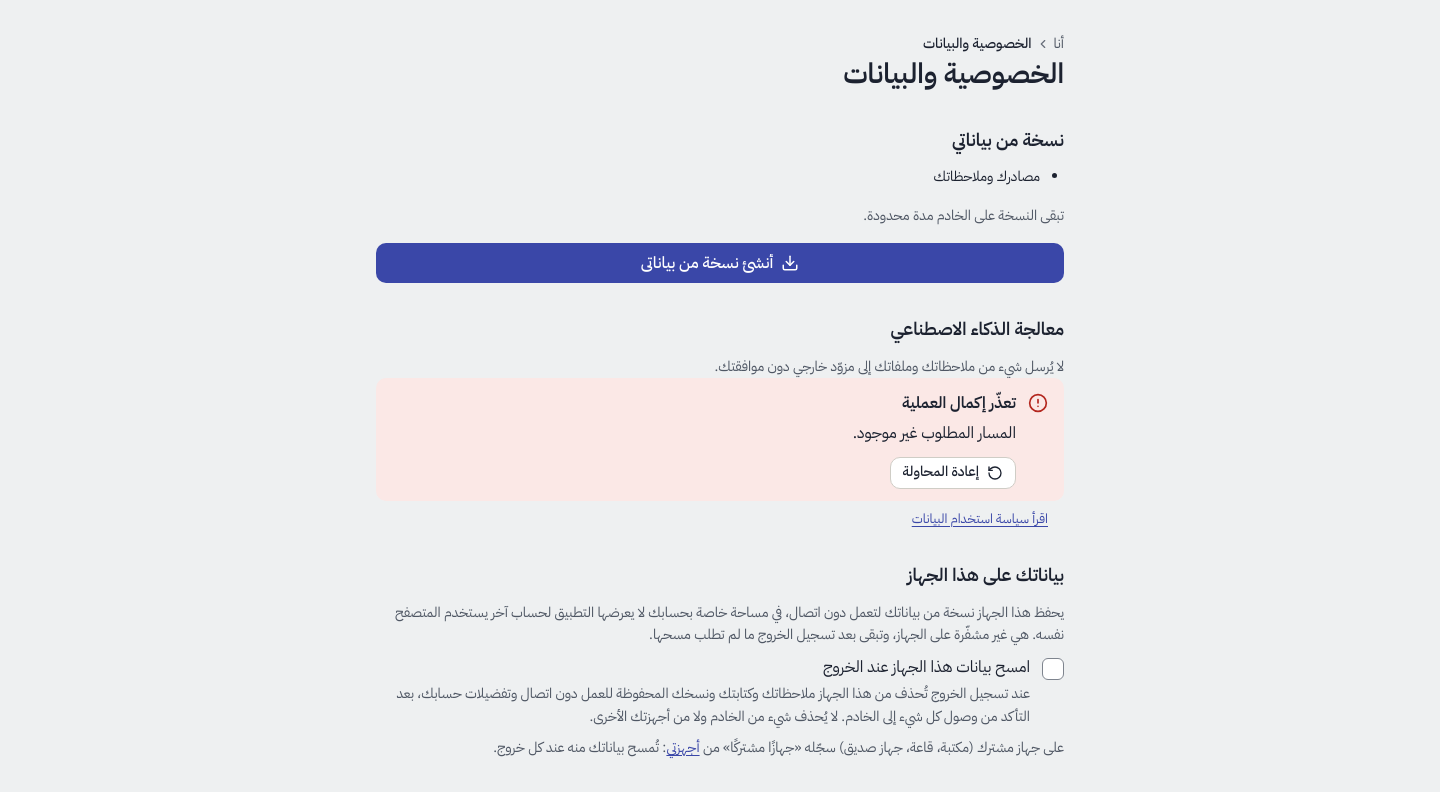
Test: «الخصوصية والبيانات» › exports «نسخة من بياناتي» and previews the deletion before asking for the password
Expected: the heading "الخصوصية والبيانات" is shown, x1=843 y1=53 x2=1064 y2=95
Expected: the list item "مصادرك وملاحظاتك" is shown, x1=934 y1=166 x2=1040 y2=187
Click the button "أنشئ نسخة من بياناتي" at (720, 263), box x1=376 y1=243 x2=1064 y2=283
(page scrolled)
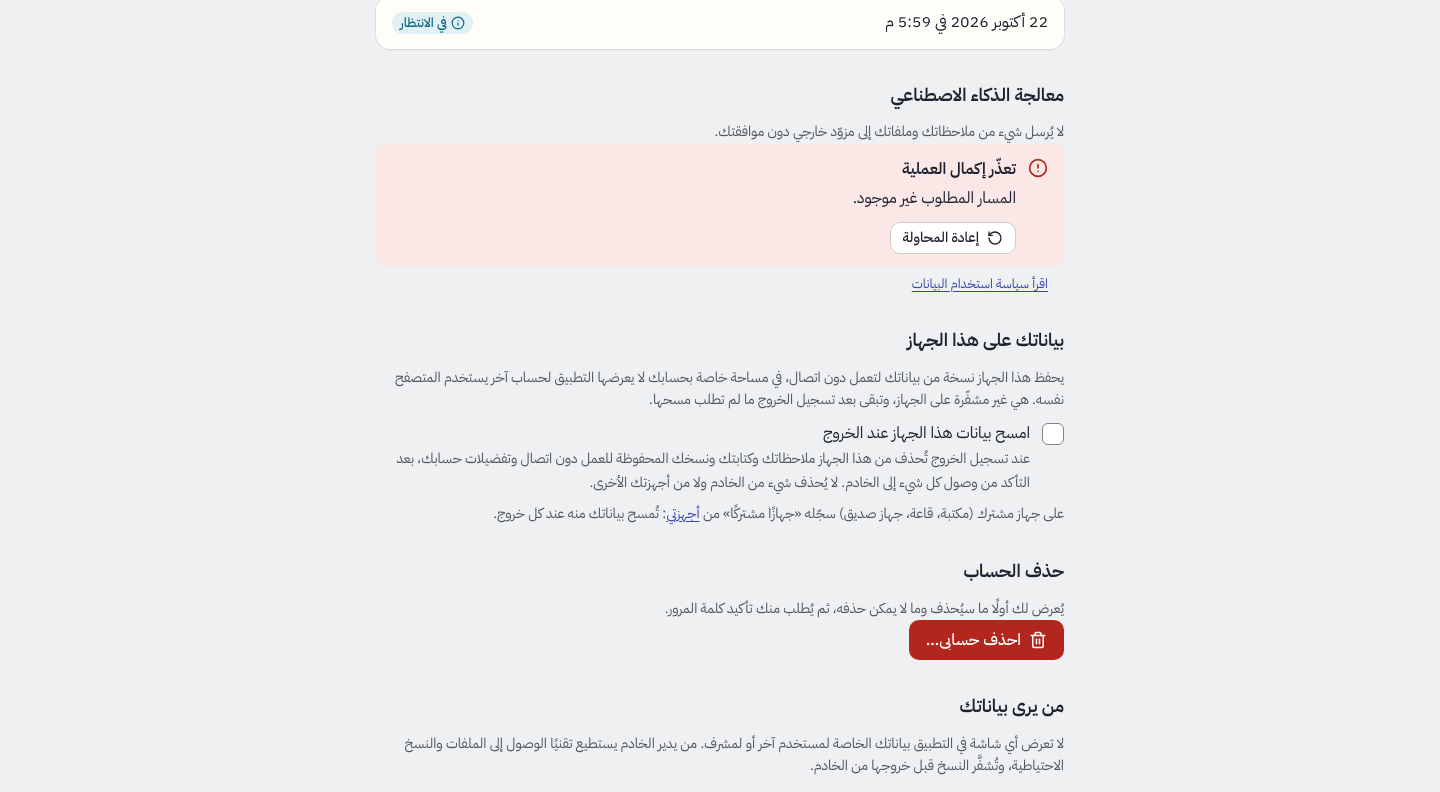
Now the text "في الانتظار" is shown, box x1=400 y1=13 x2=447 y2=33
Click the button "احذف حسابي…" at (986, 640), box x1=909 y1=620 x2=1064 y2=660
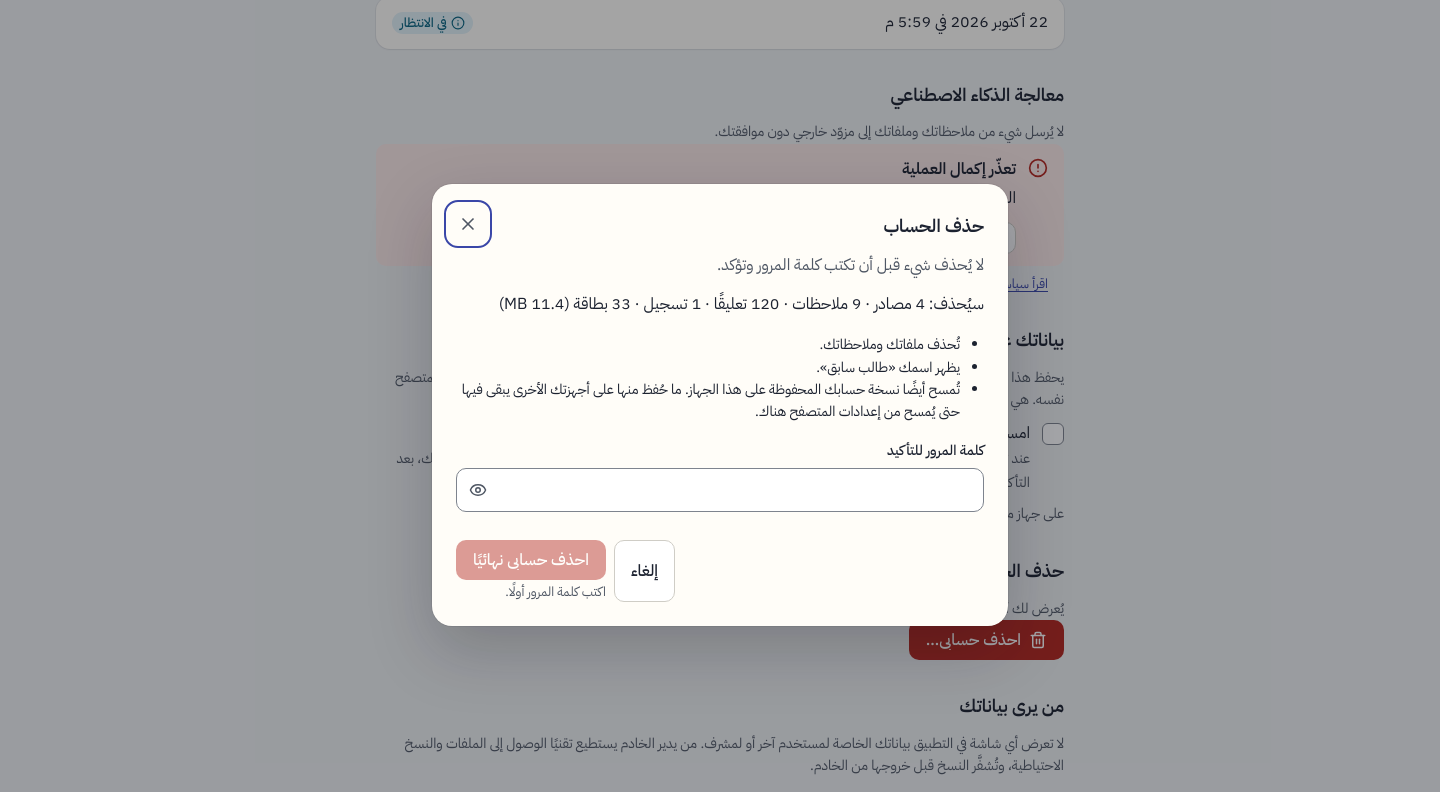
Now the text "4 مصادر" is shown, box x1=874 y1=292 x2=925 y2=316
Now the list item "يظهر اسمك «طالب سابق»." is shown, box x1=816 y1=356 x2=960 y2=378
Now the button "احذف حسابي نهائيًا" is disabled, box x1=456 y1=540 x2=606 y2=580
